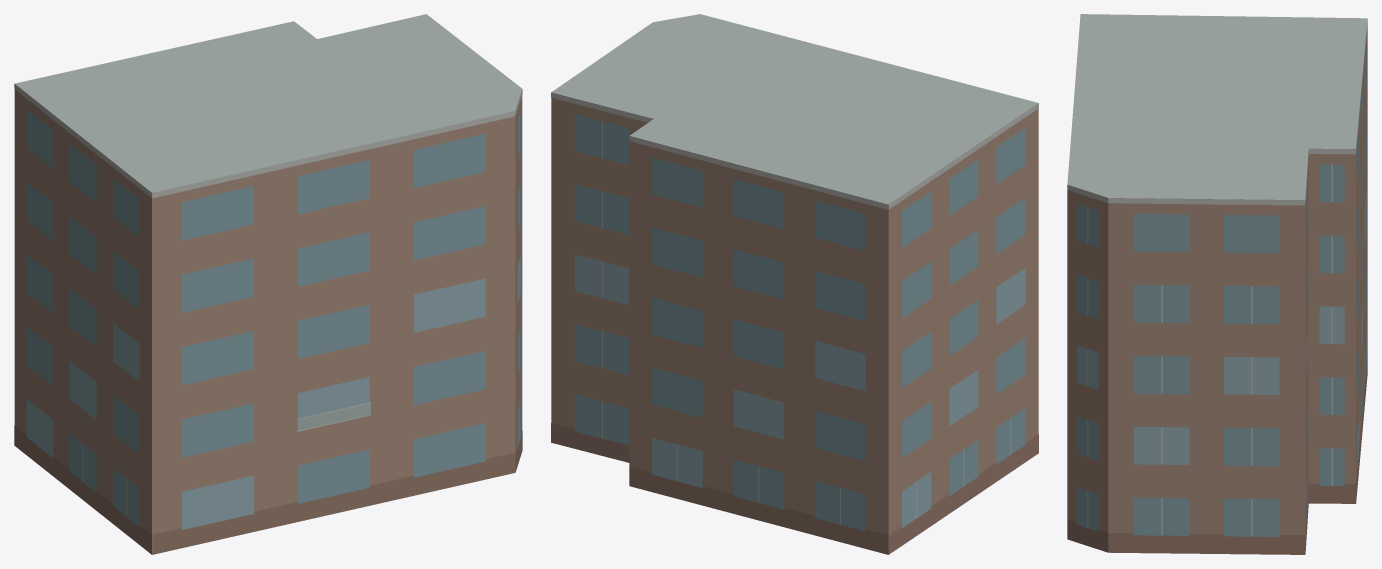
The model's file is survey-upis-32567835.glb.
3 views of the same model, side by side, from view 1: azimuth 30°, elevation 25°; view 2: azimuth 150°, elevation 25°; view 3: azimuth 270°, elevation 25° (orthographic). The views are drawn at different scales.
Parts seen in each view (by area): view 1: survey-upis-32567835.tmp; view 2: survey-upis-32567835.tmp; view 3: survey-upis-32567835.tmp.
Boxes of the visible parts, x1,y1,x2,y2 form: survey-upis-32567835.tmp: (14, 14, 522, 554); survey-upis-32567835.tmp: (551, 14, 1038, 554); survey-upis-32567835.tmp: (1067, 14, 1367, 554).
Size of the model in its own units: 18.13 by 16.1 by 12.36.
